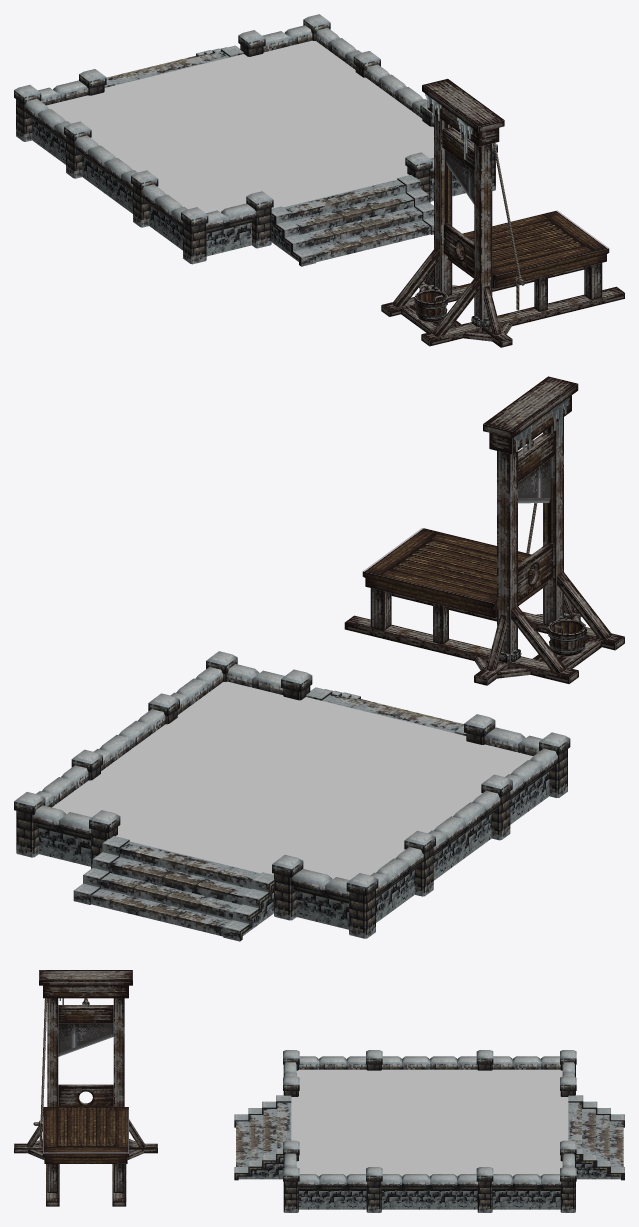
Rendered from EnvObjMD_Guillotine_A.FBX.
The picture shows the model from 3 angles, top to bottom: view 1: azimuth 30°, elevation 25°; view 2: azimuth 150°, elevation 25°; view 3: azimuth 270°, elevation 25°; orthographic projection. The views are drawn at different scales.
Parts seen in each view (by area): view 1: EnvObjMD_Guillotine_A_Stage, EnvObjMD_Guillotine_A; view 2: EnvObjMD_Guillotine_A_Stage, EnvObjMD_Guillotine_A; view 3: EnvObjMD_Guillotine_A_Stage, EnvObjMD_Guillotine_A.
Part boxes in pixels (x1,y1,x2,y2): EnvObjMD_Guillotine_A_Stage: [14, 14, 497, 266]; EnvObjMD_Guillotine_A: [381, 78, 624, 347]; EnvObjMD_Guillotine_A_Stage: [14, 651, 570, 941]; EnvObjMD_Guillotine_A: [344, 376, 624, 685]; EnvObjMD_Guillotine_A_Stage: [234, 1050, 624, 1212]; EnvObjMD_Guillotine_A: [14, 970, 157, 1206].
Size of the model in its own units: 1060 by 700 by 2206.
